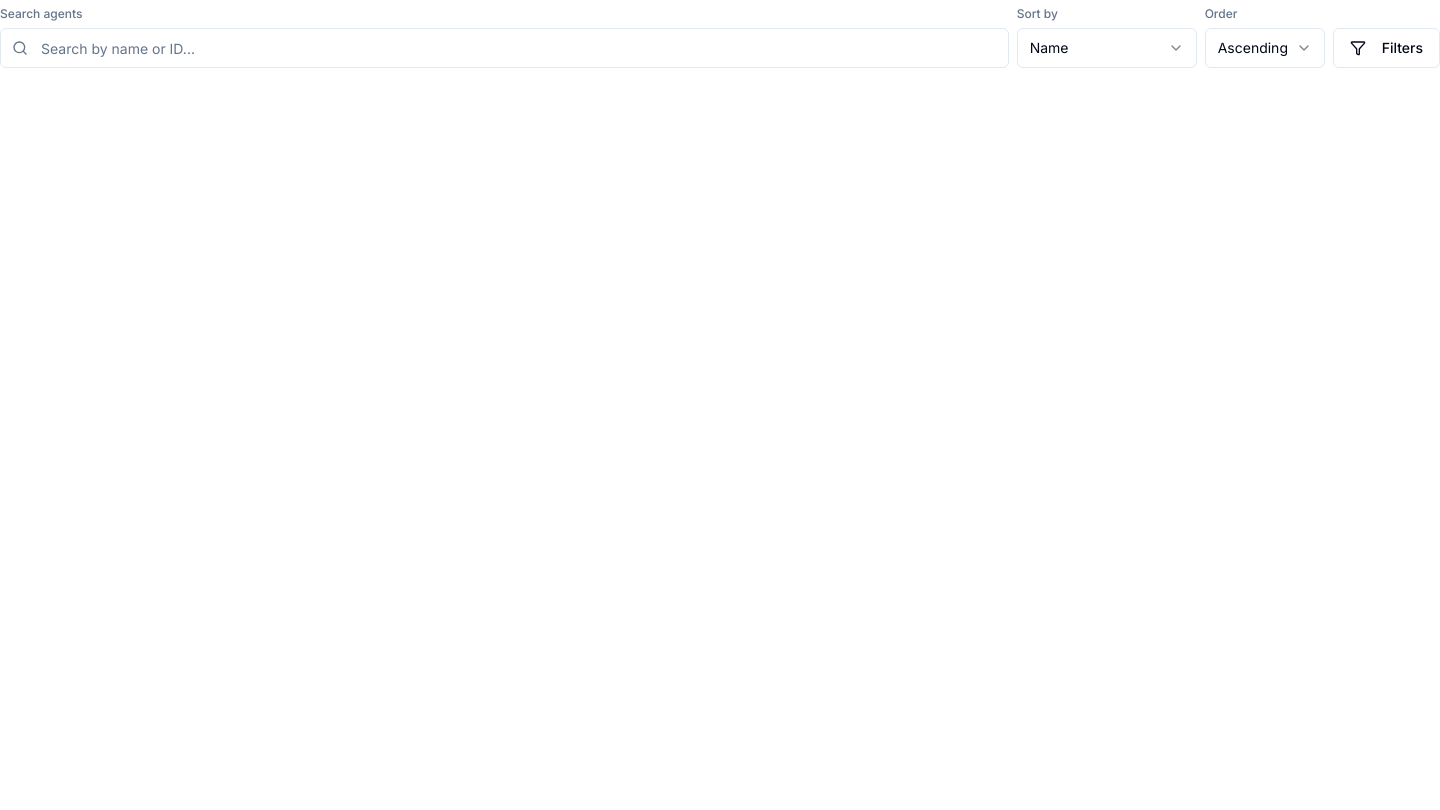
it: TrustAwareAgentSearch › allows multi-select for trust status filter
Step 1. Click the button "Filters" → [1386, 48], box [1333,28,1439,68]
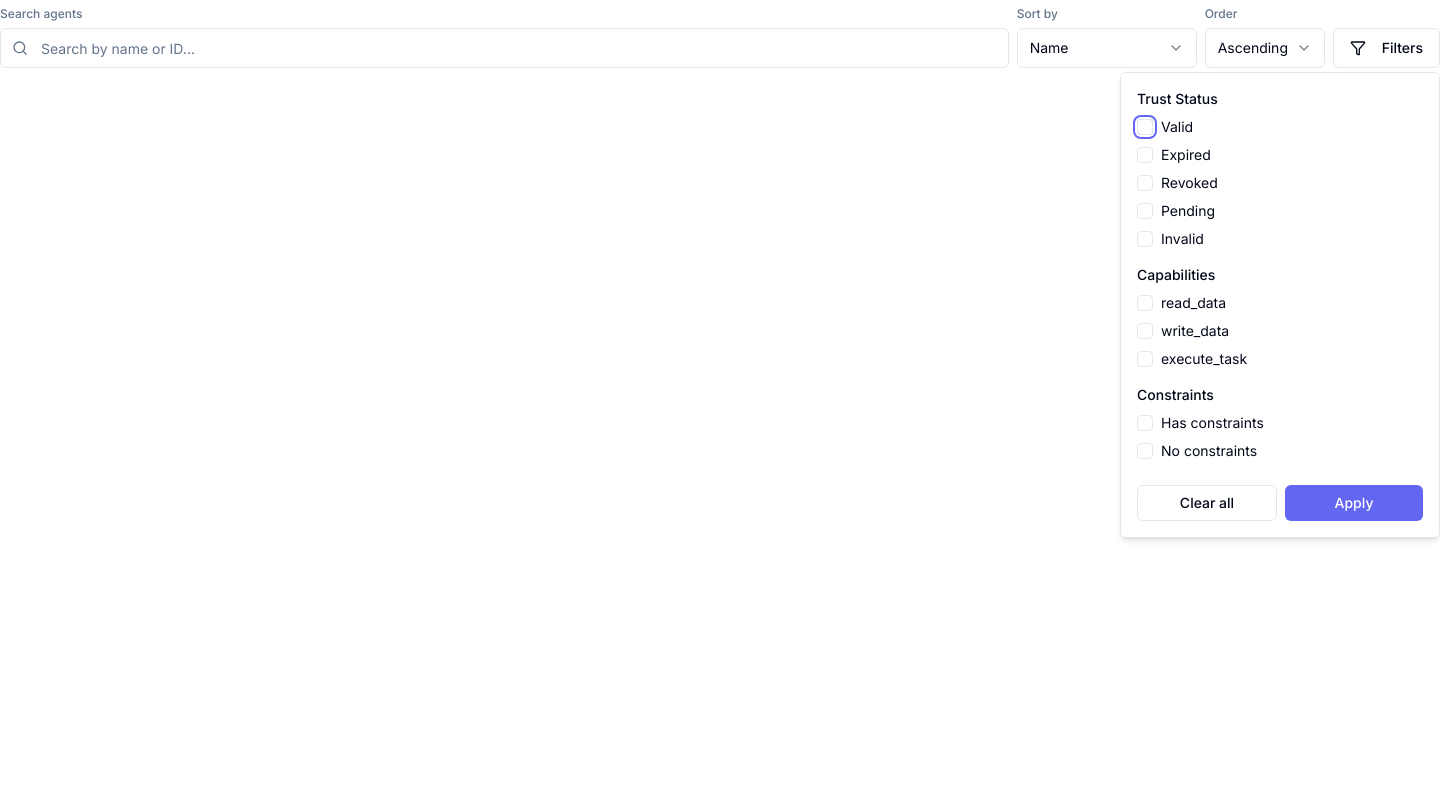
Check: the text "Valid" is shown, box [1161,117,1193,137]
